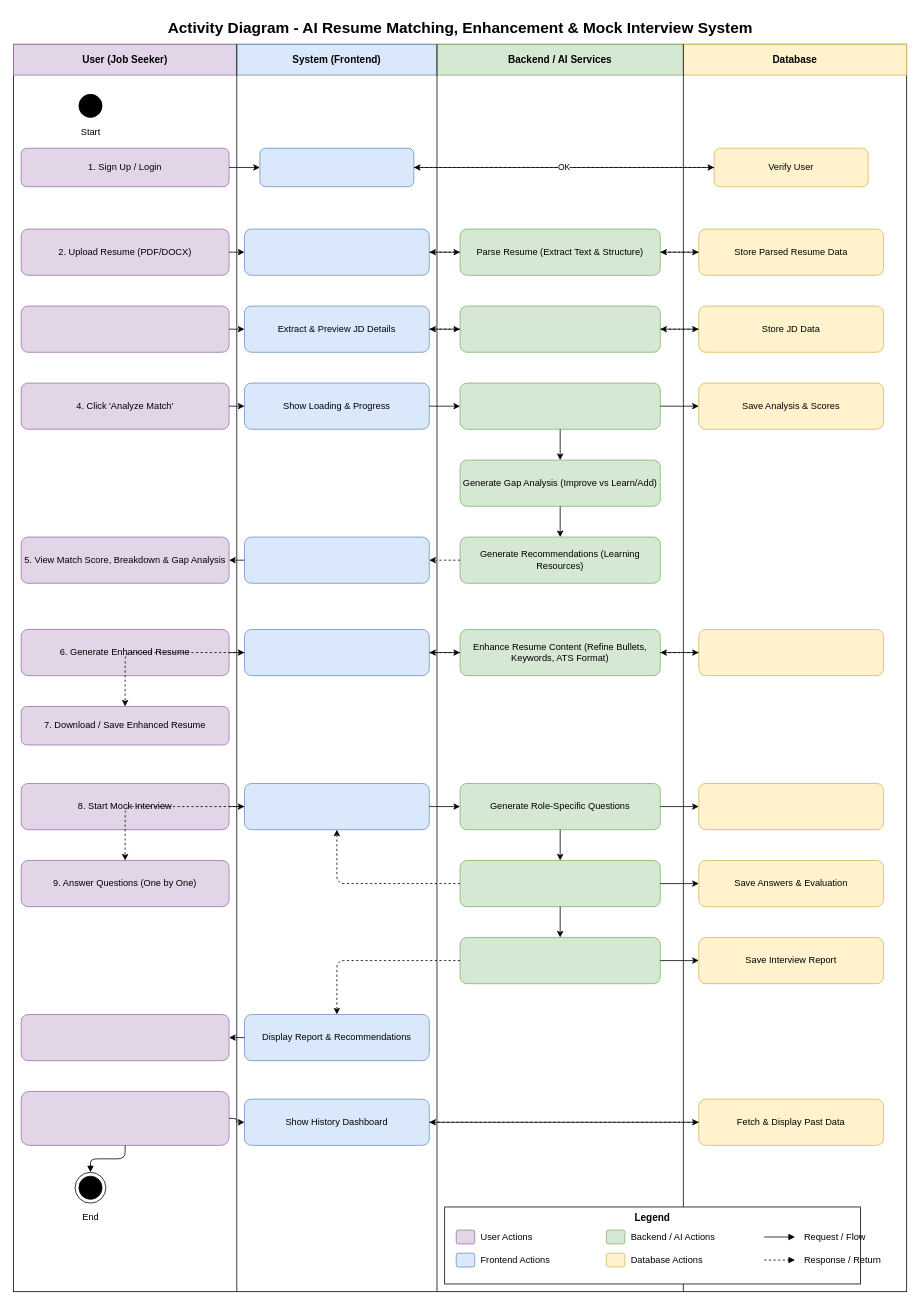
This 920x1306 diagram has some shape labels left out. Each missing label, with the centre of its shape:
"10. View Interview Feedback & Report" goes at point (124, 1037).
"11. View History (Analyses, Resumes, Interviews)" goes at point (124, 1118).
"3. Paste / Input Job Description" goes at point (124, 328).
"Authenticate" goes at point (336, 167).
"Display Results (Dashboard)" goes at point (336, 559).
"Evaluate Answers (Technical + Communication)" goes at point (559, 883).
"Extract & Preview Resume Data" goes at point (336, 251).
"Generate Interview Report (Score, Feedback, Weak Areas, Revision Topics)" goes at point (559, 960).
"Match & Score (Keyword + Semantic Similarity)" goes at point (559, 405).
"Parse JD (Extract Skills, Role, Reqs, Keywords)" goes at point (559, 328).
"Save Enhanced Resume" goes at point (791, 652).
"Save Interview Session" goes at point (791, 806).
"Show Enhancement Preview" goes at point (336, 652).
"Start Interview Session" goes at point (336, 806).
